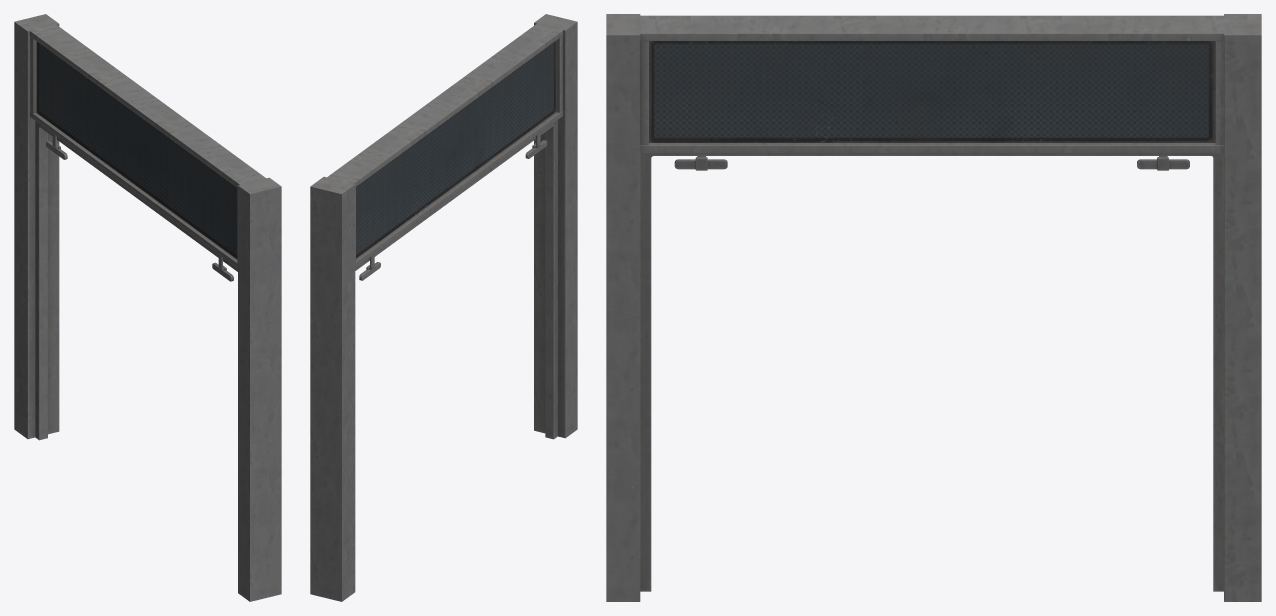
The model's file is SM_Double_DoorFrame_01.fbx.
3 renders of one model, left to right at view 1: azimuth 30°, elevation 25°; view 2: azimuth 150°, elevation 25°; view 3: azimuth 270°, elevation 25°, orthographic. The views are drawn at different scales.
Parts seen in each view (by area): view 1: SM_Double_DoorFrame_01_LOD0; view 2: SM_Double_DoorFrame_01_LOD0; view 3: SM_Double_DoorFrame_01_LOD0.
Boxes of the visible parts, x1,y1,x2,y2 form: SM_Double_DoorFrame_01_LOD0: (14, 14, 281, 601); SM_Double_DoorFrame_01_LOD0: (310, 14, 577, 601); SM_Double_DoorFrame_01_LOD0: (606, 14, 1261, 601).
Bounding box in the file's own units: 26.19 × 338 × 323.
1 material, 1 textured.
